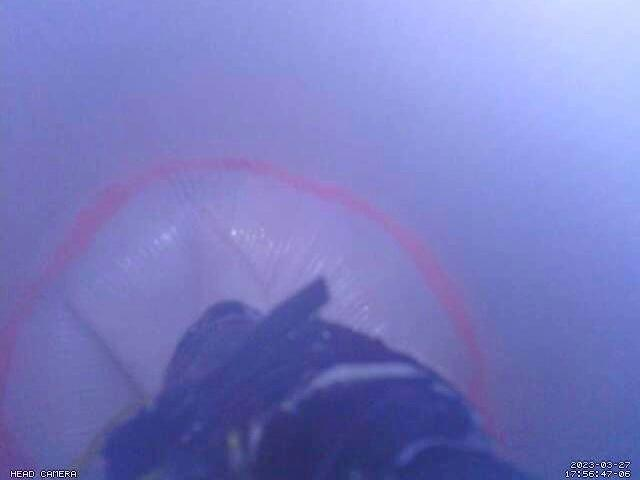head: (0, 155, 508, 480)
